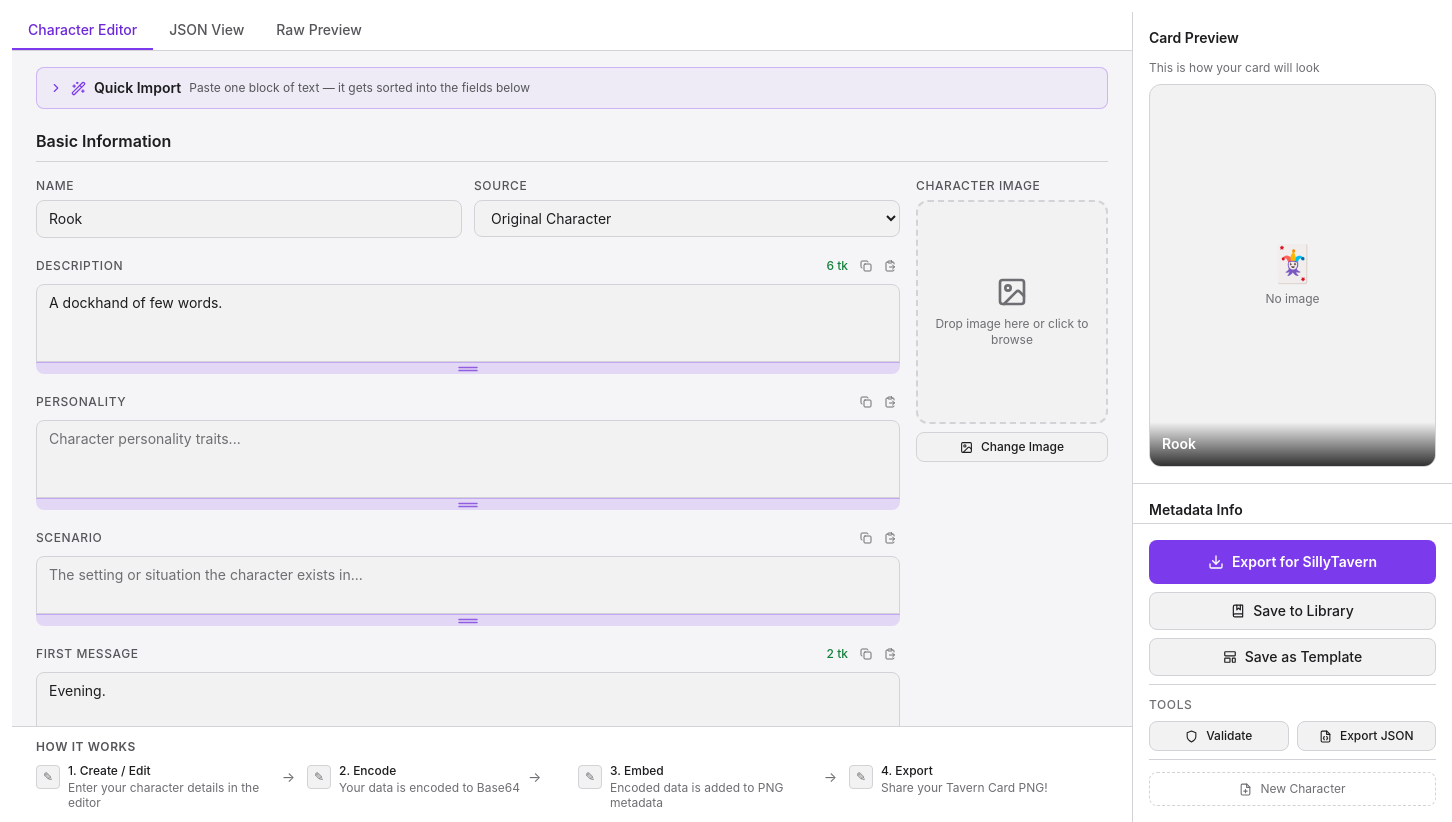
Test: CreateCard › reports a valid card as valid
The width and height of the screenshot is (1452, 822).
Click the button "Validate": x=1219, y=736 [1149,721,1288,751]
(page scrolled)
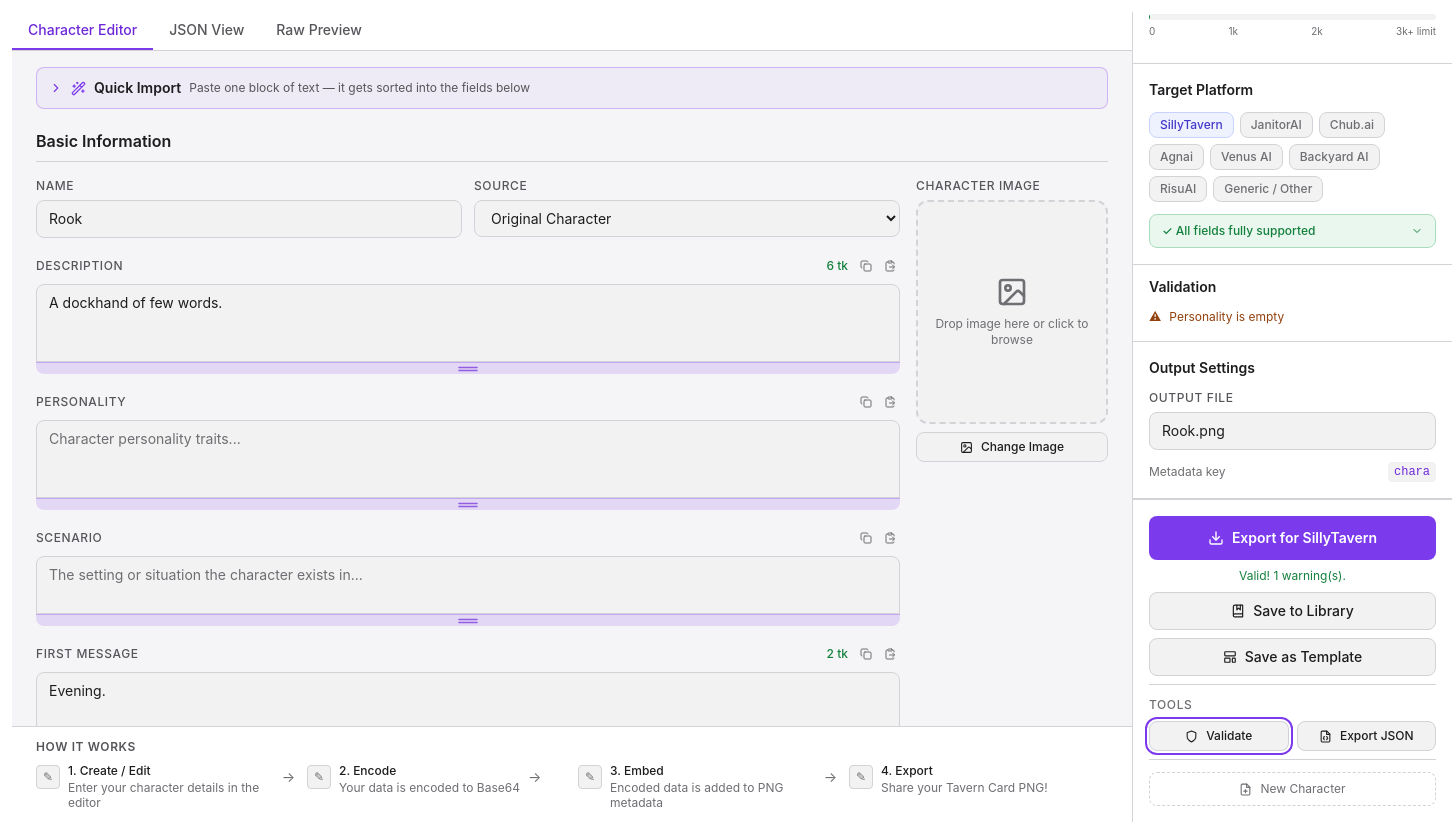
Expected: the text "Validation" is shown, [1149,278,1216,295]
